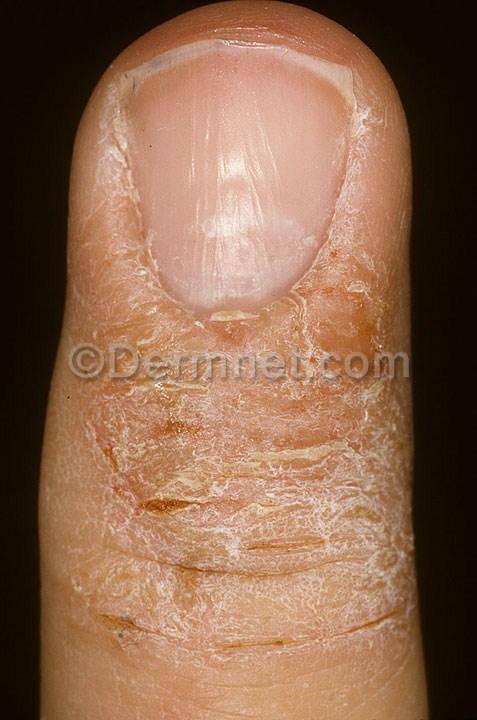Eczema: (43, 560, 198, 645), (141, 374, 255, 481), (151, 474, 254, 576), (257, 394, 344, 498), (256, 583, 339, 686), (73, 260, 159, 356), (183, 558, 265, 658), (298, 298, 373, 399), (342, 405, 408, 519), (248, 490, 323, 584), (325, 514, 394, 616), (50, 376, 146, 444), (325, 250, 413, 322), (87, 182, 160, 268), (35, 510, 151, 564), (230, 314, 308, 393), (49, 445, 148, 506), (358, 119, 417, 214), (344, 188, 420, 258), (335, 615, 413, 682), (371, 329, 403, 475), (161, 315, 229, 382), (390, 523, 425, 634), (353, 78, 402, 138), (88, 114, 133, 175)
